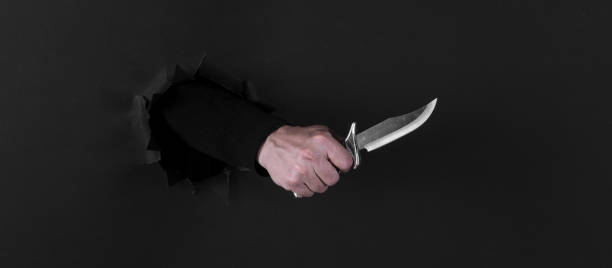knife: (341, 97, 439, 172)
